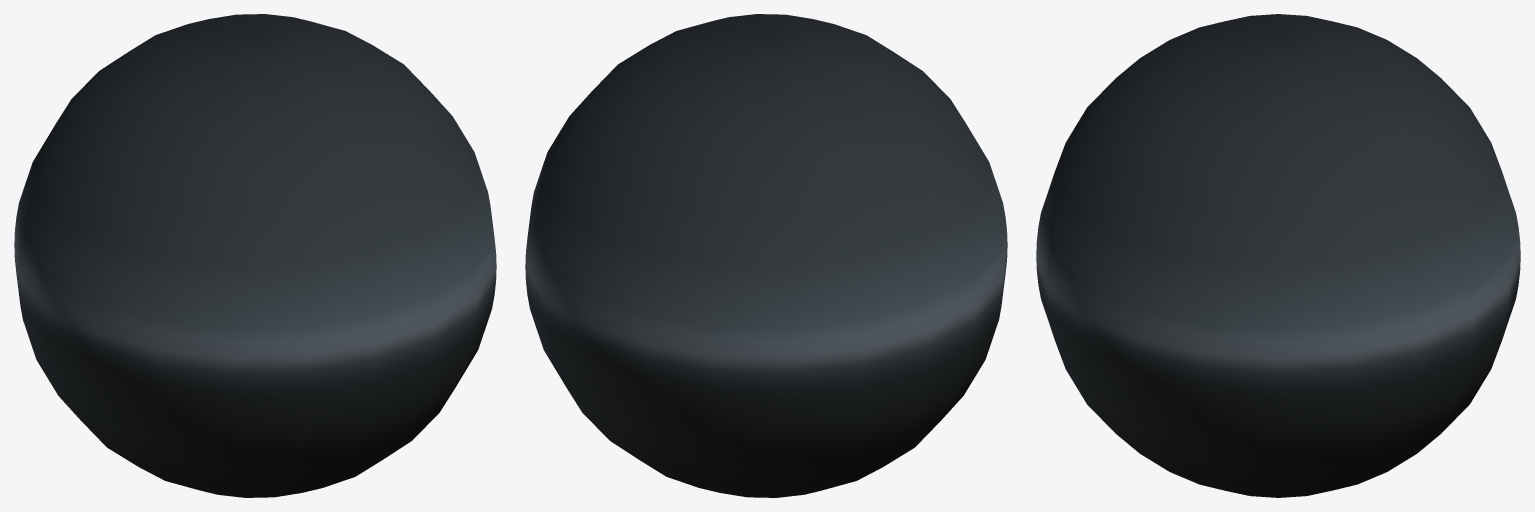
File: SkySphere.fbx
3 renders of one model, left to right at view 1: azimuth 30°, elevation 25°; view 2: azimuth 150°, elevation 25°; view 3: azimuth 270°, elevation 25°, orthographic.
Parts seen in each view (by area): view 1: SkySphere; view 2: SkySphere; view 3: SkySphere.
Part boxes in pixels (box(x1,y1,x2,y2)): SkySphere: box(14, 14, 496, 497); SkySphere: box(525, 14, 1007, 497); SkySphere: box(1036, 14, 1520, 497).
Bounding box in the file's own units: 600 × 600 × 600.
